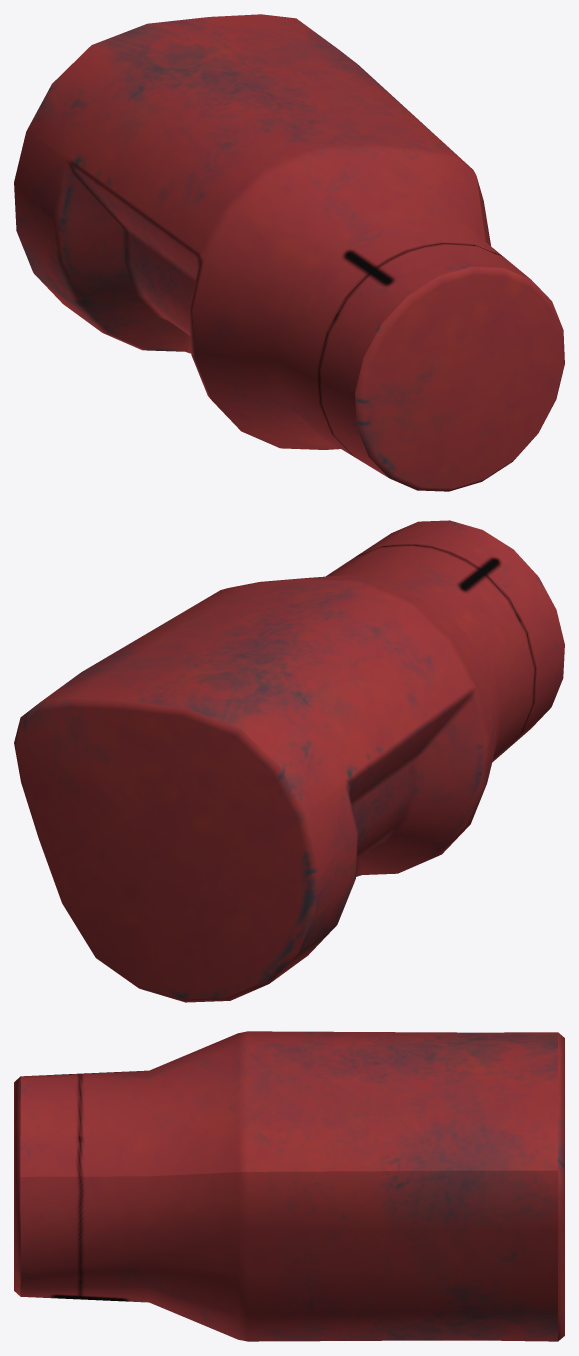
Rendered from SM_Armour_ExpResist_Arm.fbx.
3 views of the same model, one above another, from view 1: azimuth 30°, elevation 25°; view 2: azimuth 150°, elevation 25°; view 3: azimuth 270°, elevation 25° (orthographic). The views are drawn at different scales.
Visible parts, largest first — view 1: SM_Armour_ExpResist_Arm; view 2: SM_Armour_ExpResist_Arm; view 3: SM_Armour_ExpResist_Arm.
Part boxes in pixels (left/top/right/bottom): SM_Armour_ExpResist_Arm: left=14, top=14, right=564, bottom=491; SM_Armour_ExpResist_Arm: left=14, top=520, right=564, bottom=1002; SM_Armour_ExpResist_Arm: left=14, top=1031, right=564, bottom=1341.
Bounding box in the file's own units: 30.57 × 28.63 × 52.1.
Materials: 1 (1 with a texture image).
